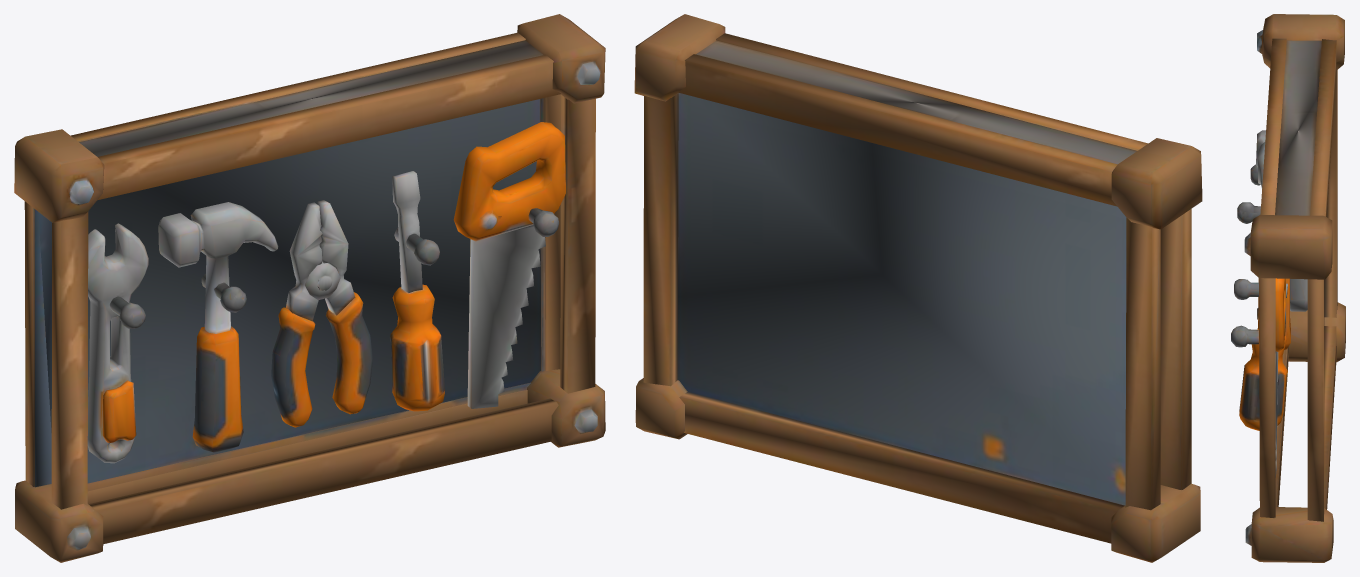
The model's file is tool-set.glb.
The picture shows the model from 3 angles, left to right: view 1: azimuth 30°, elevation 25°; view 2: azimuth 150°, elevation 25°; view 3: azimuth 270°, elevation 25°; orthographic projection. The views are drawn at different scales.
Parts seen in each view (by area): view 1: tripo_node_27e853f8-7d08-4d6f-9612-346b8693442a; view 2: tripo_node_27e853f8-7d08-4d6f-9612-346b8693442a; view 3: tripo_node_27e853f8-7d08-4d6f-9612-346b8693442a.
Part boxes in pixels (<box>): tripo_node_27e853f8-7d08-4d6f-9612-346b8693442a: <box>14,14,605,562</box>; tripo_node_27e853f8-7d08-4d6f-9612-346b8693442a: <box>634,14,1202,562</box>; tripo_node_27e853f8-7d08-4d6f-9612-346b8693442a: <box>1231,14,1345,562</box>.
Bounding box in the file's own units: 0.998 × 0.6933 × 0.2167.
Materials: 1 (1 with a texture image).
